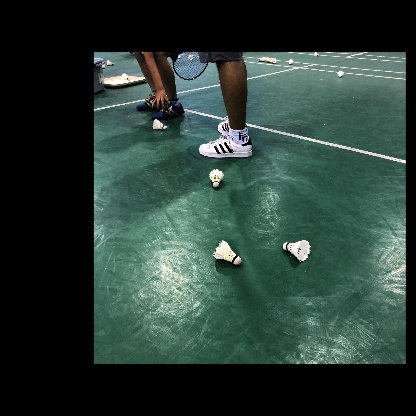ball_single: (212, 240, 242, 265), (283, 240, 311, 262), (209, 169, 223, 188), (152, 119, 167, 130), (258, 57, 276, 63), (338, 71, 344, 77), (289, 59, 294, 64), (314, 52, 319, 56)
